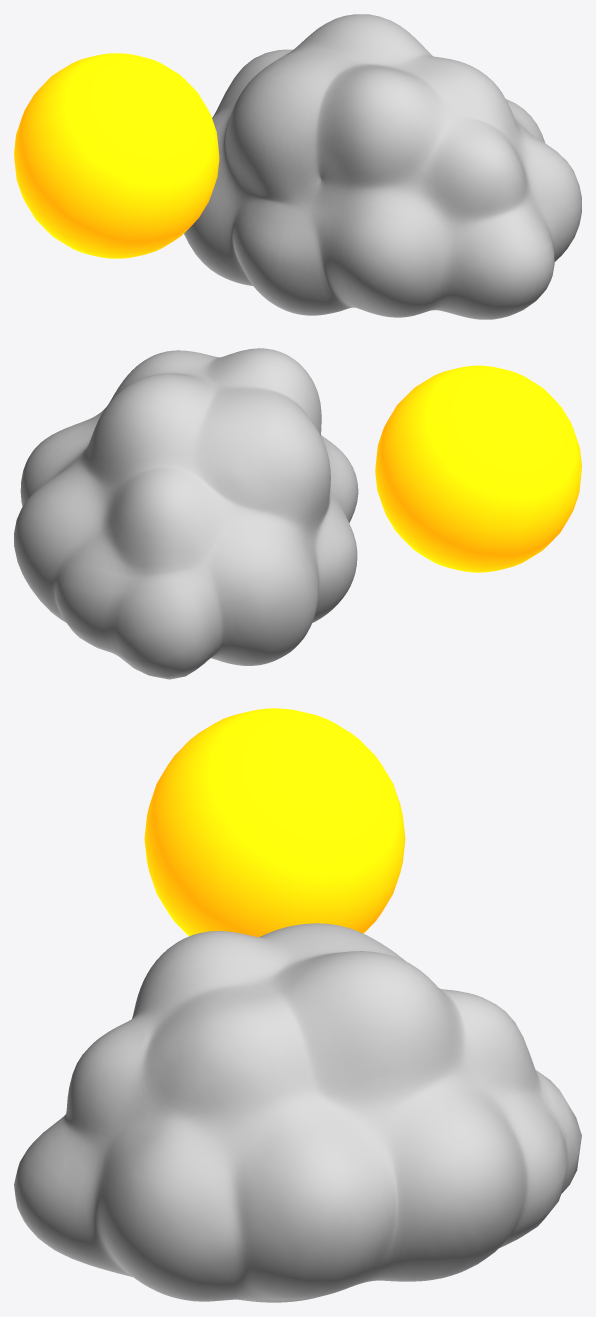
The picture shows the model from 3 angles, top to bottom: view 1: azimuth 30°, elevation 25°; view 2: azimuth 150°, elevation 25°; view 3: azimuth 270°, elevation 25°; orthographic projection. The views are drawn at different scales.
Parts seen in each view (by area): view 1: Cloud, Sphere; view 2: Cloud, Sphere; view 3: Cloud, Sphere.
Part boxes in pixels (bbox=[...]): Cloud: bbox=[184, 14, 581, 319]; Sphere: bbox=[14, 53, 219, 258]; Cloud: bbox=[14, 348, 358, 679]; Sphere: bbox=[375, 365, 581, 572]; Cloud: bbox=[14, 923, 581, 1302]; Sphere: bbox=[144, 708, 405, 937].
Size of the model in its own units: 1758 by 972 by 1304.
